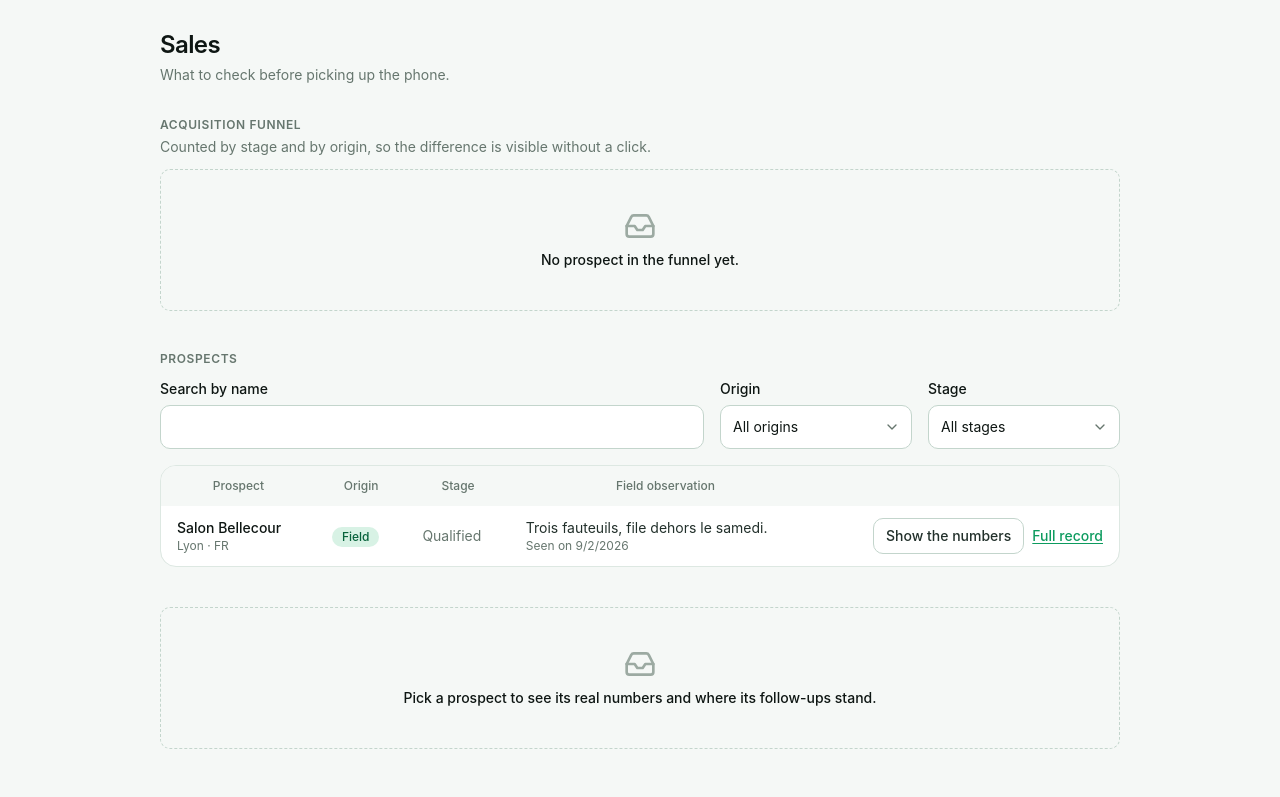
Scenario: PlatformSalesPage — /platform/sales › names why the next automatic follow-up is blocked, and offers no manual re-send
The width and height of the screenshot is (1280, 797).
Click the button "Salon Bellecour". click: (229, 528)
box: 177,518 -> 281,538
(page scrolled)
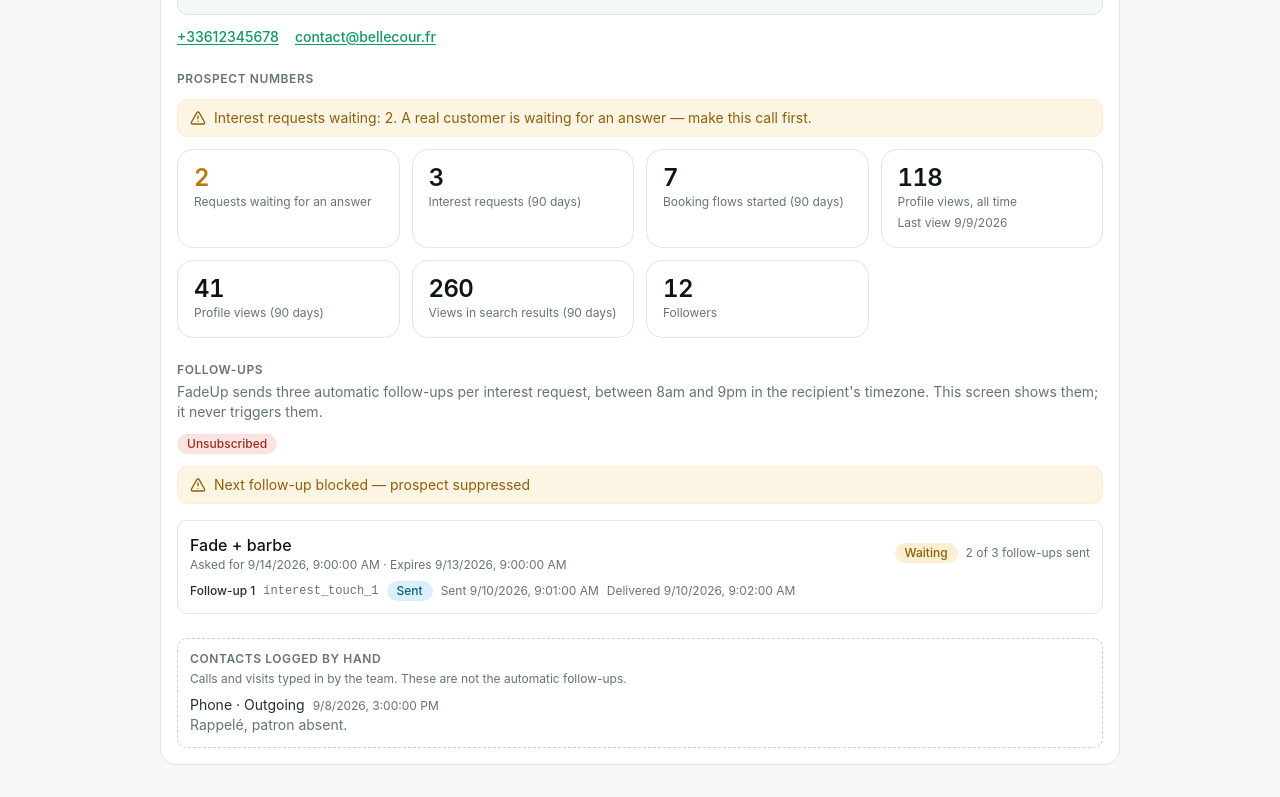
Expected: the text "Next follow-up blocked — prospect suppressed" is shown, 214,475 -> 530,495
Expected: the text "2 of 3 follow-ups sent" is shown, 966,545 -> 1090,561
Expected: the heading "Contacts logged by hand" is shown, 190,651 -> 381,667
